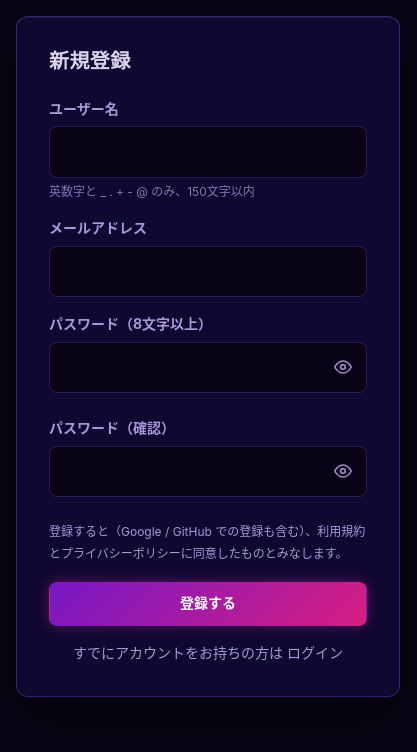
Test: RegisterPage › 8文字未満のパスワードで送信すると client validation エラーを表示し、API は呼ばれない
The image size is (417, 752).
Type "bob" into the field labelled "ユーザー名" at (208, 152), box [49,126,367,178]
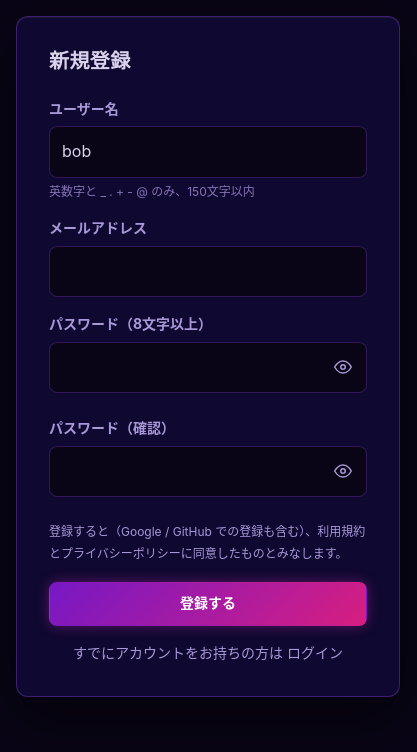
Type "bob@example.com" into the field labelled "メールアドレス" at (208, 271), box [49,246,367,297]
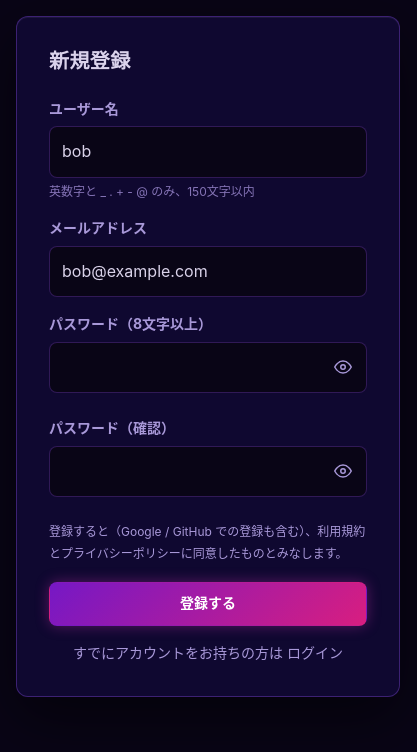
Type "short" into the password field labelled "パスワード（8文字以上）" at (208, 367), box [49,342,367,393]
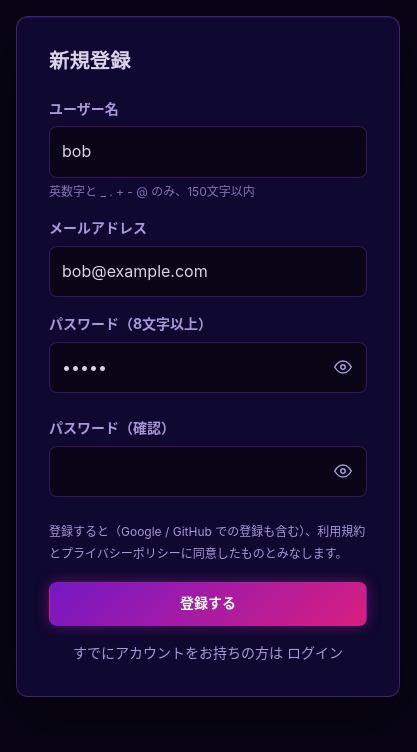
# submit ハンドラを直接呼ぶため form を取得して submit
Submit the form, box [49,98,367,626]
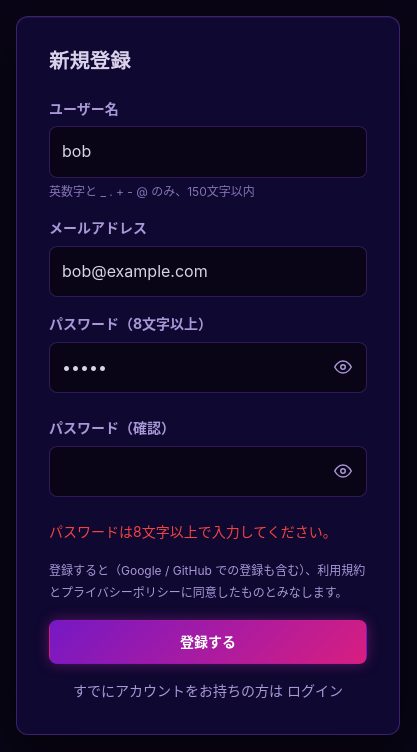
Expected: the text "パスワードは8文字以上で入力してください。" is shown, [49,521,367,544]
